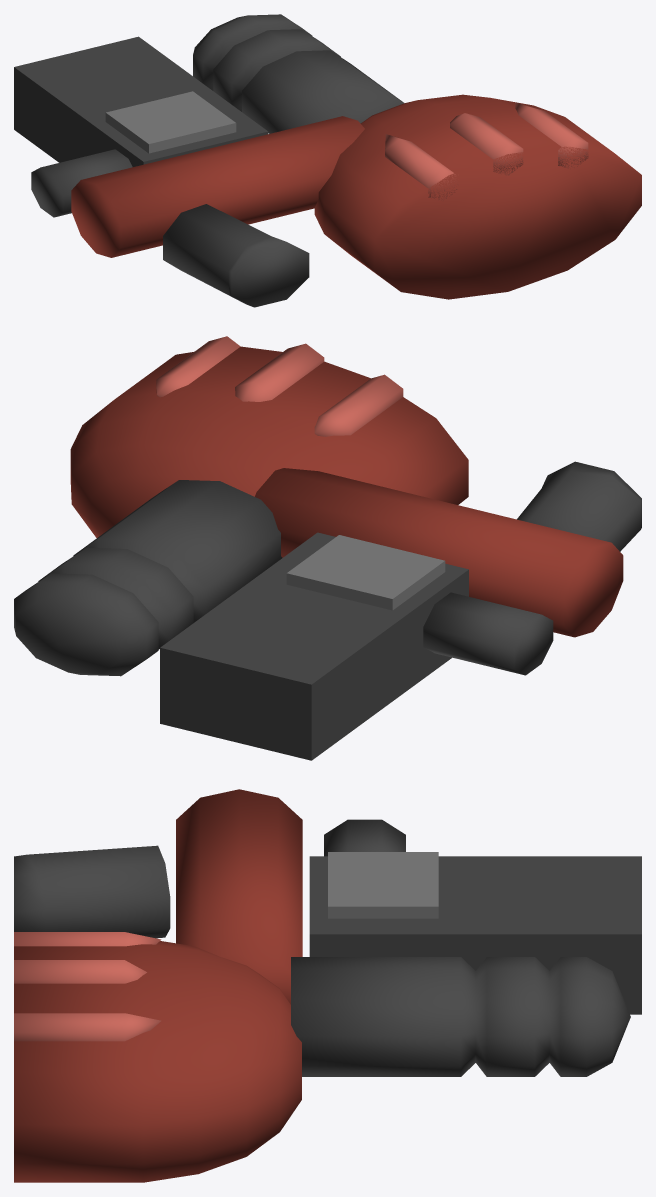
The model's file is newsht-11.glb.
The picture shows the model from 3 angles, top to bottom: view 1: azimuth 30°, elevation 25°; view 2: azimuth 150°, elevation 25°; view 3: azimuth 270°, elevation 25°; orthographic projection. The views are drawn at different scales.
Parts seen in each view (by area): view 1: newsht-11; view 2: newsht-11; view 3: newsht-11.
Boxes of the visible parts, <box> form: newsht-11: <box>14,14,641,307</box>; newsht-11: <box>14,336,641,760</box>; newsht-11: <box>14,789,641,1182</box>.
Bounding box in the file's own units: 1.53 × 0.47 × 1.42.
